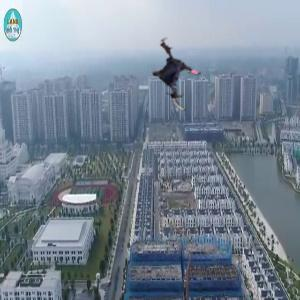drone: (137, 37, 212, 112)
